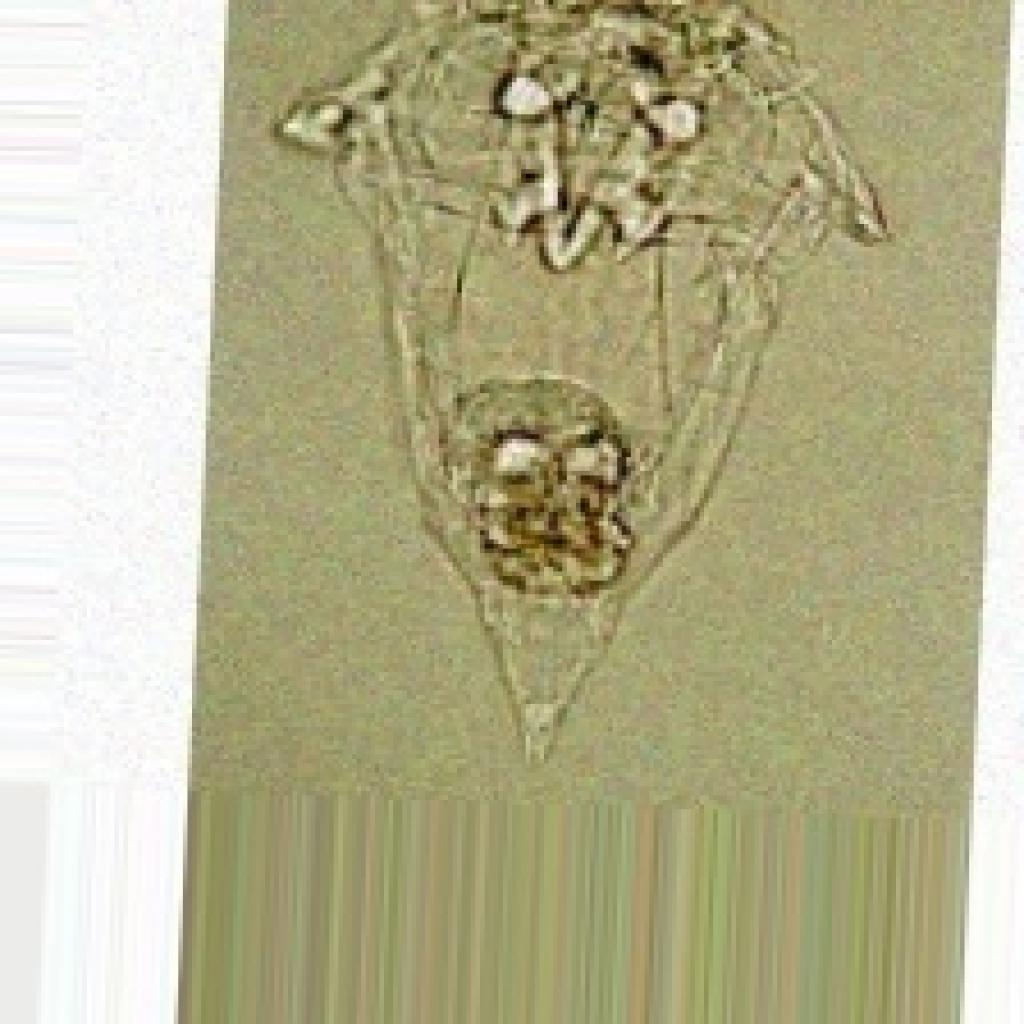Rotifer: (265, 0, 892, 768)
